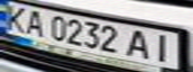0: (45, 13, 69, 42)
2: (100, 22, 124, 55), (63, 17, 84, 46)
3: (81, 20, 103, 52)
A: (124, 27, 154, 61), (21, 9, 48, 37)
I: (148, 33, 178, 63)
K: (0, 2, 30, 33)
